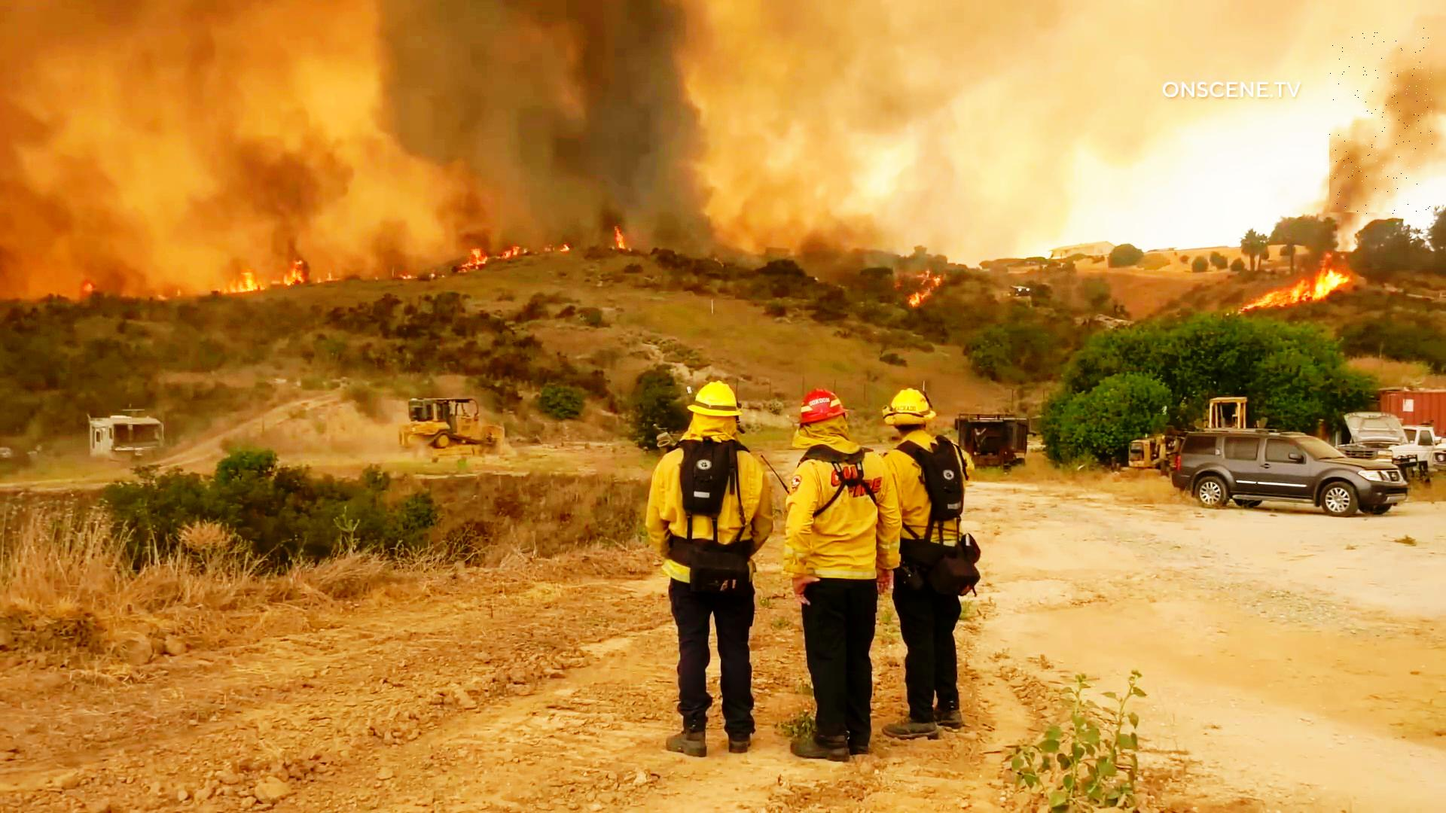smoke: (1330, 28, 1433, 214)
